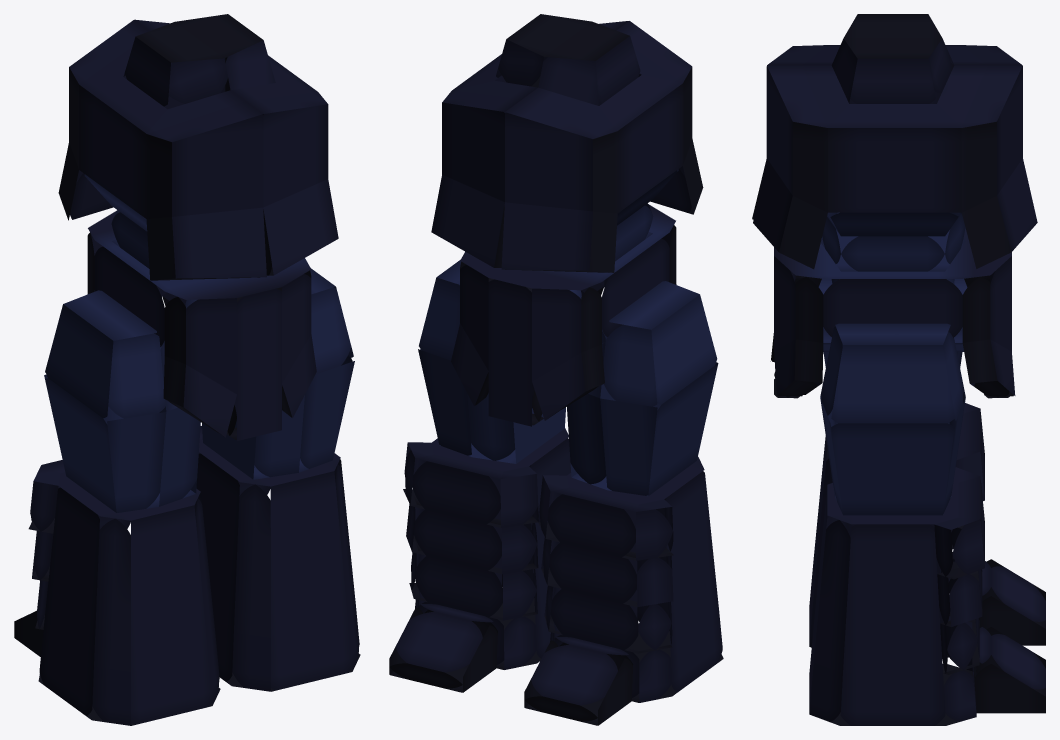
The model's file is ShogunBody.obj.
3 views of the same model, side by side, from view 1: azimuth 30°, elevation 25°; view 2: azimuth 150°, elevation 25°; view 3: azimuth 270°, elevation 25° (orthographic). The views are drawn at different scales.
Parts seen in each view (by area): view 1: cylinder, Body, Thigh, Pelvis, Toe; view 2: cylinder, Body, Thigh, Pelvis, Toe; view 3: Body, cylinder, Thigh, Pelvis, Toe.
Boxes of the visible parts, x1,y1,x2,y2 form: cylinder: [28, 426, 360, 725]; Body: [58, 14, 338, 280]; Thigh: [44, 268, 354, 512]; Pelvis: [87, 211, 316, 440]; Toe: [14, 610, 43, 656]; cylinder: [403, 428, 723, 702]; Body: [431, 14, 703, 272]; Thigh: [418, 260, 718, 496]; Pelvis: [451, 204, 676, 426]; Toe: [389, 604, 633, 725]; Body: [752, 14, 1037, 271]; cylinder: [809, 403, 984, 725]; Thigh: [820, 279, 965, 515]; Pelvis: [770, 212, 1015, 398]; Toe: [973, 559, 1045, 713].
Bounding box in the file's own units: 0.5518 × 1.18 × 0.5045.
Materials: 1 (1 with a texture image).
